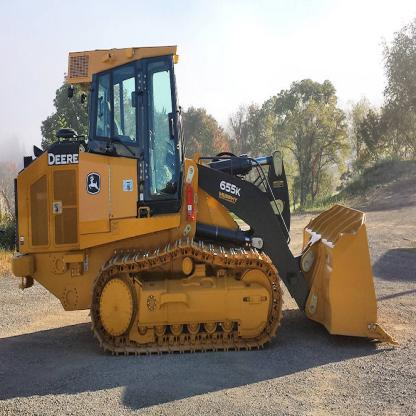bull_dozer/loader/grader: (10, 33, 407, 365)
